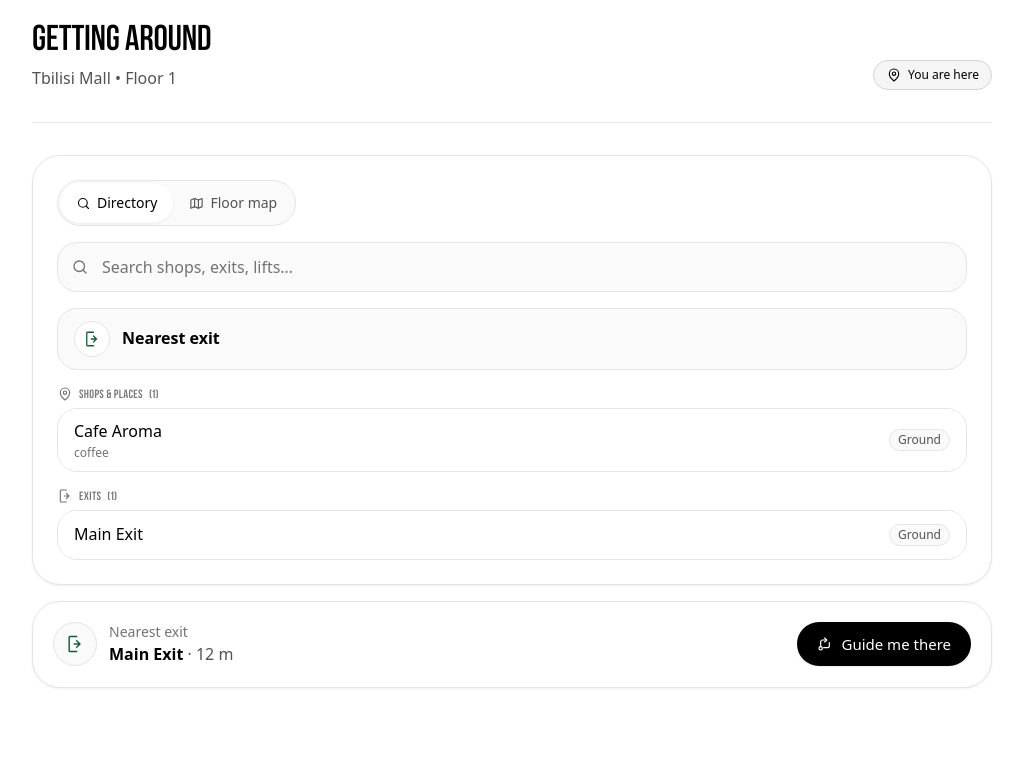
Test: scan page — directory first, map one tap away › "Guide me there" fetches the evacuation route into the same slot
The image size is (1024, 768).
(page scrolled)
Expected: the text "Tbilisi Mall • Floor 1" is shown, top-left (32, 67), bottom-right (177, 89)
Click the button "Guide me there" at (884, 644), box top-left (798, 622), bottom-right (971, 666)
(page scrolled)
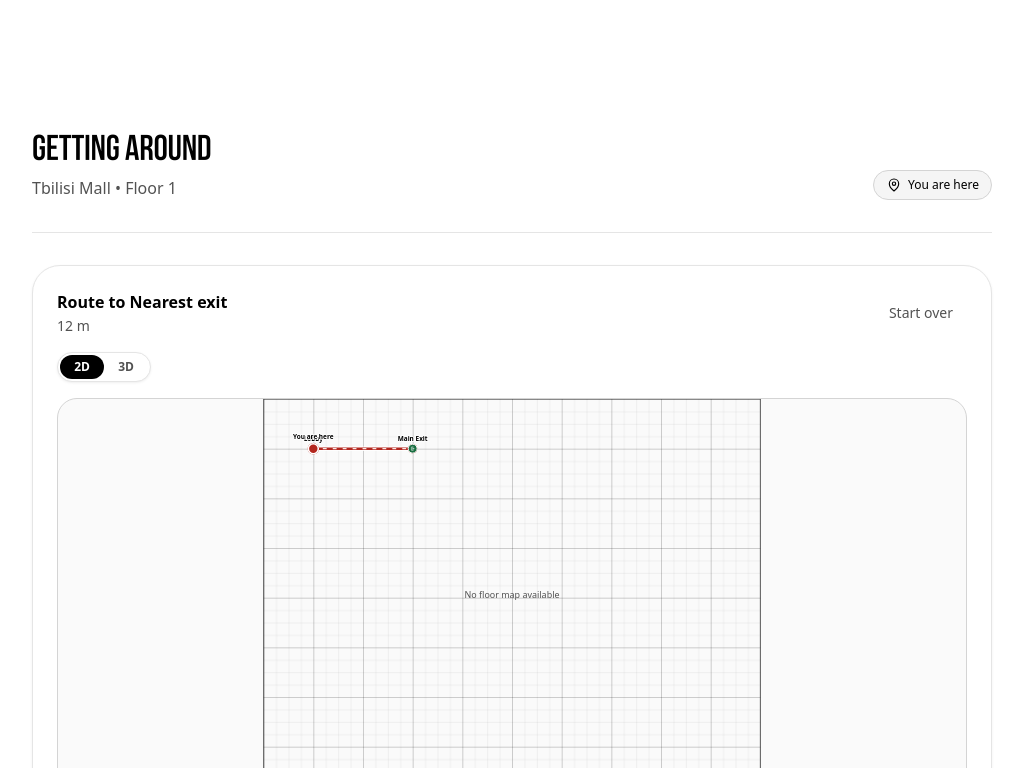
Result: the button "Guide me there" is gone
